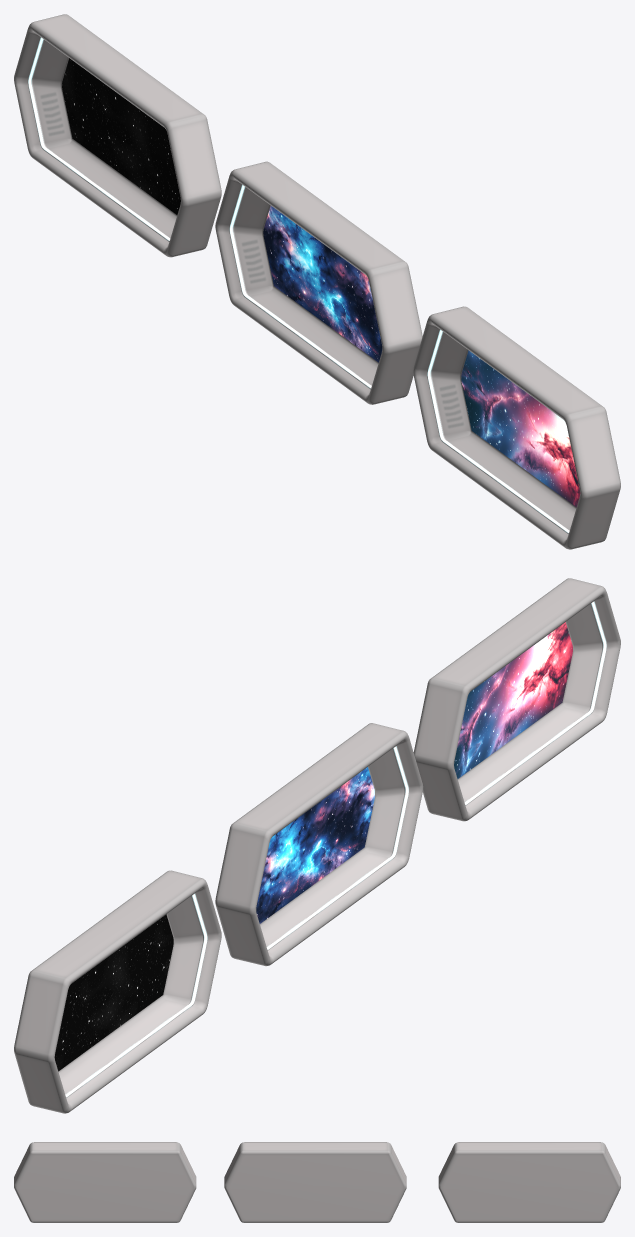
3 views of the same model, one above another, from view 1: azimuth 30°, elevation 25°; view 2: azimuth 150°, elevation 25°; view 3: azimuth 270°, elevation 25° (orthographic). The views are drawn at different scales.
Visible parts, largest first — view 1: SM_large_window, SM_large_window.002, SM_large_window.001; view 2: SM_large_window.001, SM_large_window, SM_large_window.002; view 3: SM_large_window, SM_large_window.001, SM_large_window.002.
Boxes of the visible parts, x1,y1,x2,y2 form: SM_large_window: [14, 14, 221, 257]; SM_large_window.002: [413, 306, 620, 549]; SM_large_window.001: [215, 161, 422, 404]; SM_large_window.001: [215, 723, 423, 966]; SM_large_window: [14, 870, 221, 1113]; SM_large_window.002: [413, 578, 620, 821]; SM_large_window: [438, 1142, 620, 1222]; SM_large_window.001: [224, 1142, 406, 1222]; SM_large_window.002: [14, 1142, 196, 1222].
Bounding box in the file's own units: 0.527 × 1.7 × 12.97.
4 materials, 4 textured.
